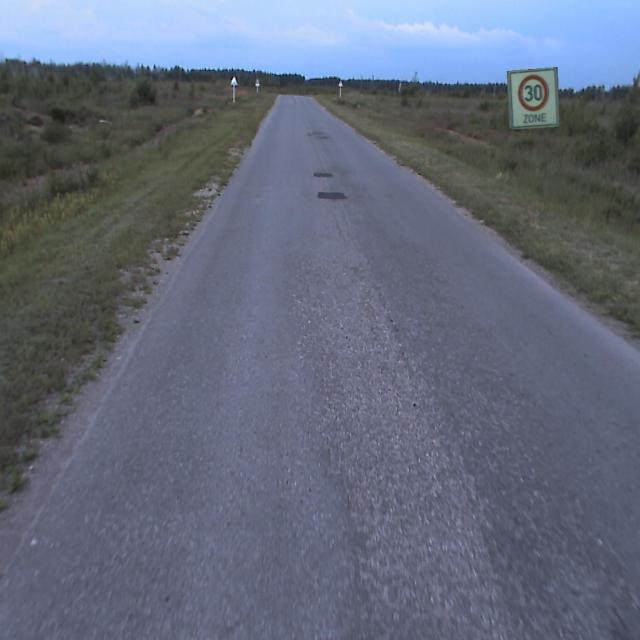road: (0, 96, 639, 639)
